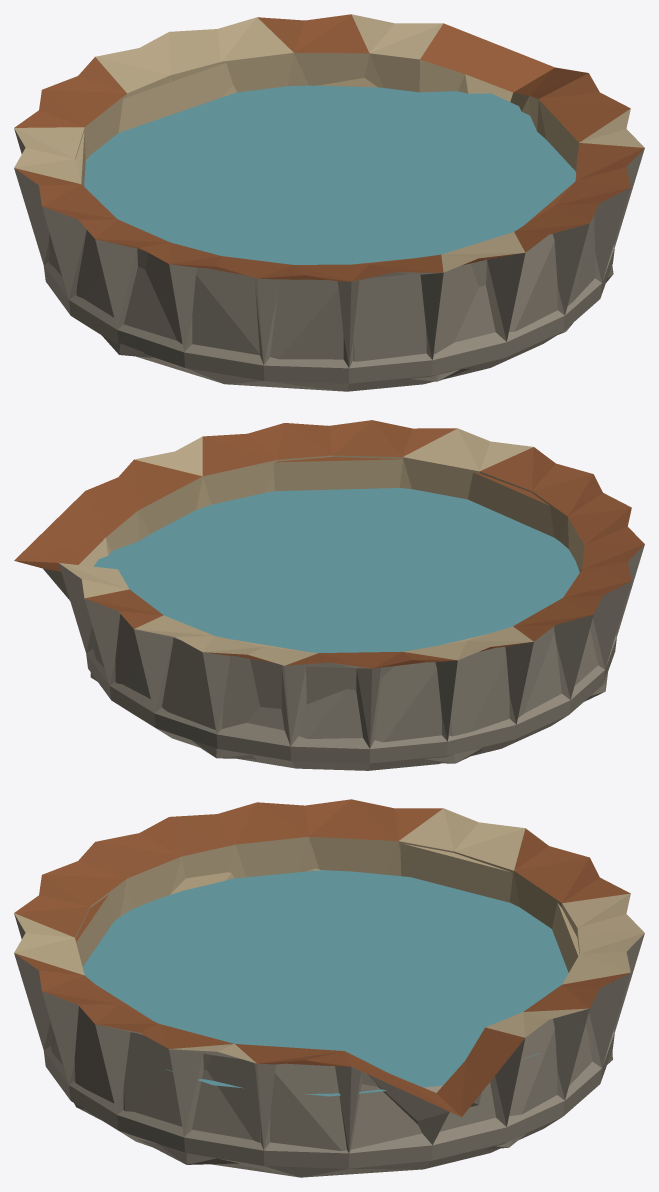
File: pf_found_cap.glb
3 renders of one model, top to bottom at view 1: azimuth 30°, elevation 25°; view 2: azimuth 150°, elevation 25°; view 3: azimuth 270°, elevation 25°, orthographic. The views are drawn at different scales.
Visible parts, largest first — view 1: body, body__far; view 2: body, body__far; view 3: body, body__far.
Boxes of the visible parts, x1,y1,x2,y2 form: body: [14, 14, 644, 391]; body__far: [49, 63, 613, 381]; body: [14, 420, 644, 770]; body__far: [90, 457, 608, 763]; body: [14, 799, 644, 1177]; body__far: [51, 843, 612, 1164].
Size of the model in its own units: 0.6595 by 0.1484 by 0.6338.
